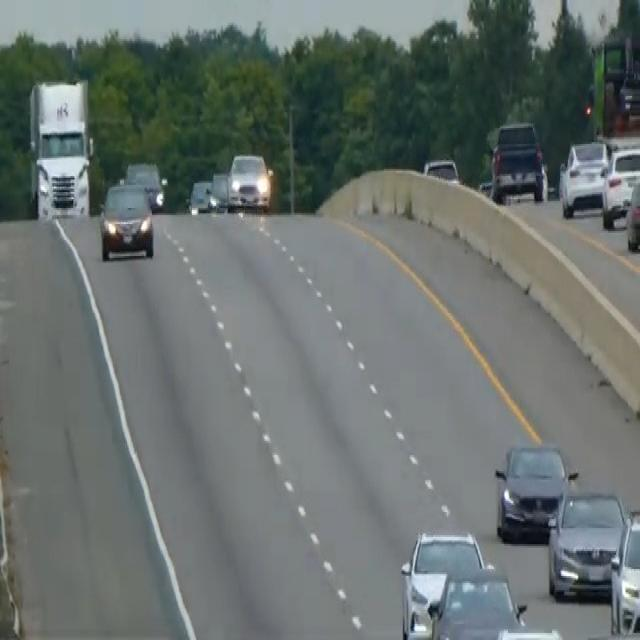car: (399, 526, 486, 638), (546, 487, 627, 601), (493, 439, 574, 542), (428, 564, 527, 638), (97, 176, 156, 263), (558, 135, 612, 217), (609, 508, 639, 634), (600, 142, 639, 228), (227, 151, 271, 212), (124, 158, 165, 212), (419, 144, 463, 192), (624, 172, 639, 250), (492, 624, 568, 638), (422, 155, 459, 183), (187, 176, 213, 215), (209, 169, 229, 211), (582, 628, 639, 638)
jeep: (488, 118, 548, 205)
lorry: (26, 75, 95, 222)
